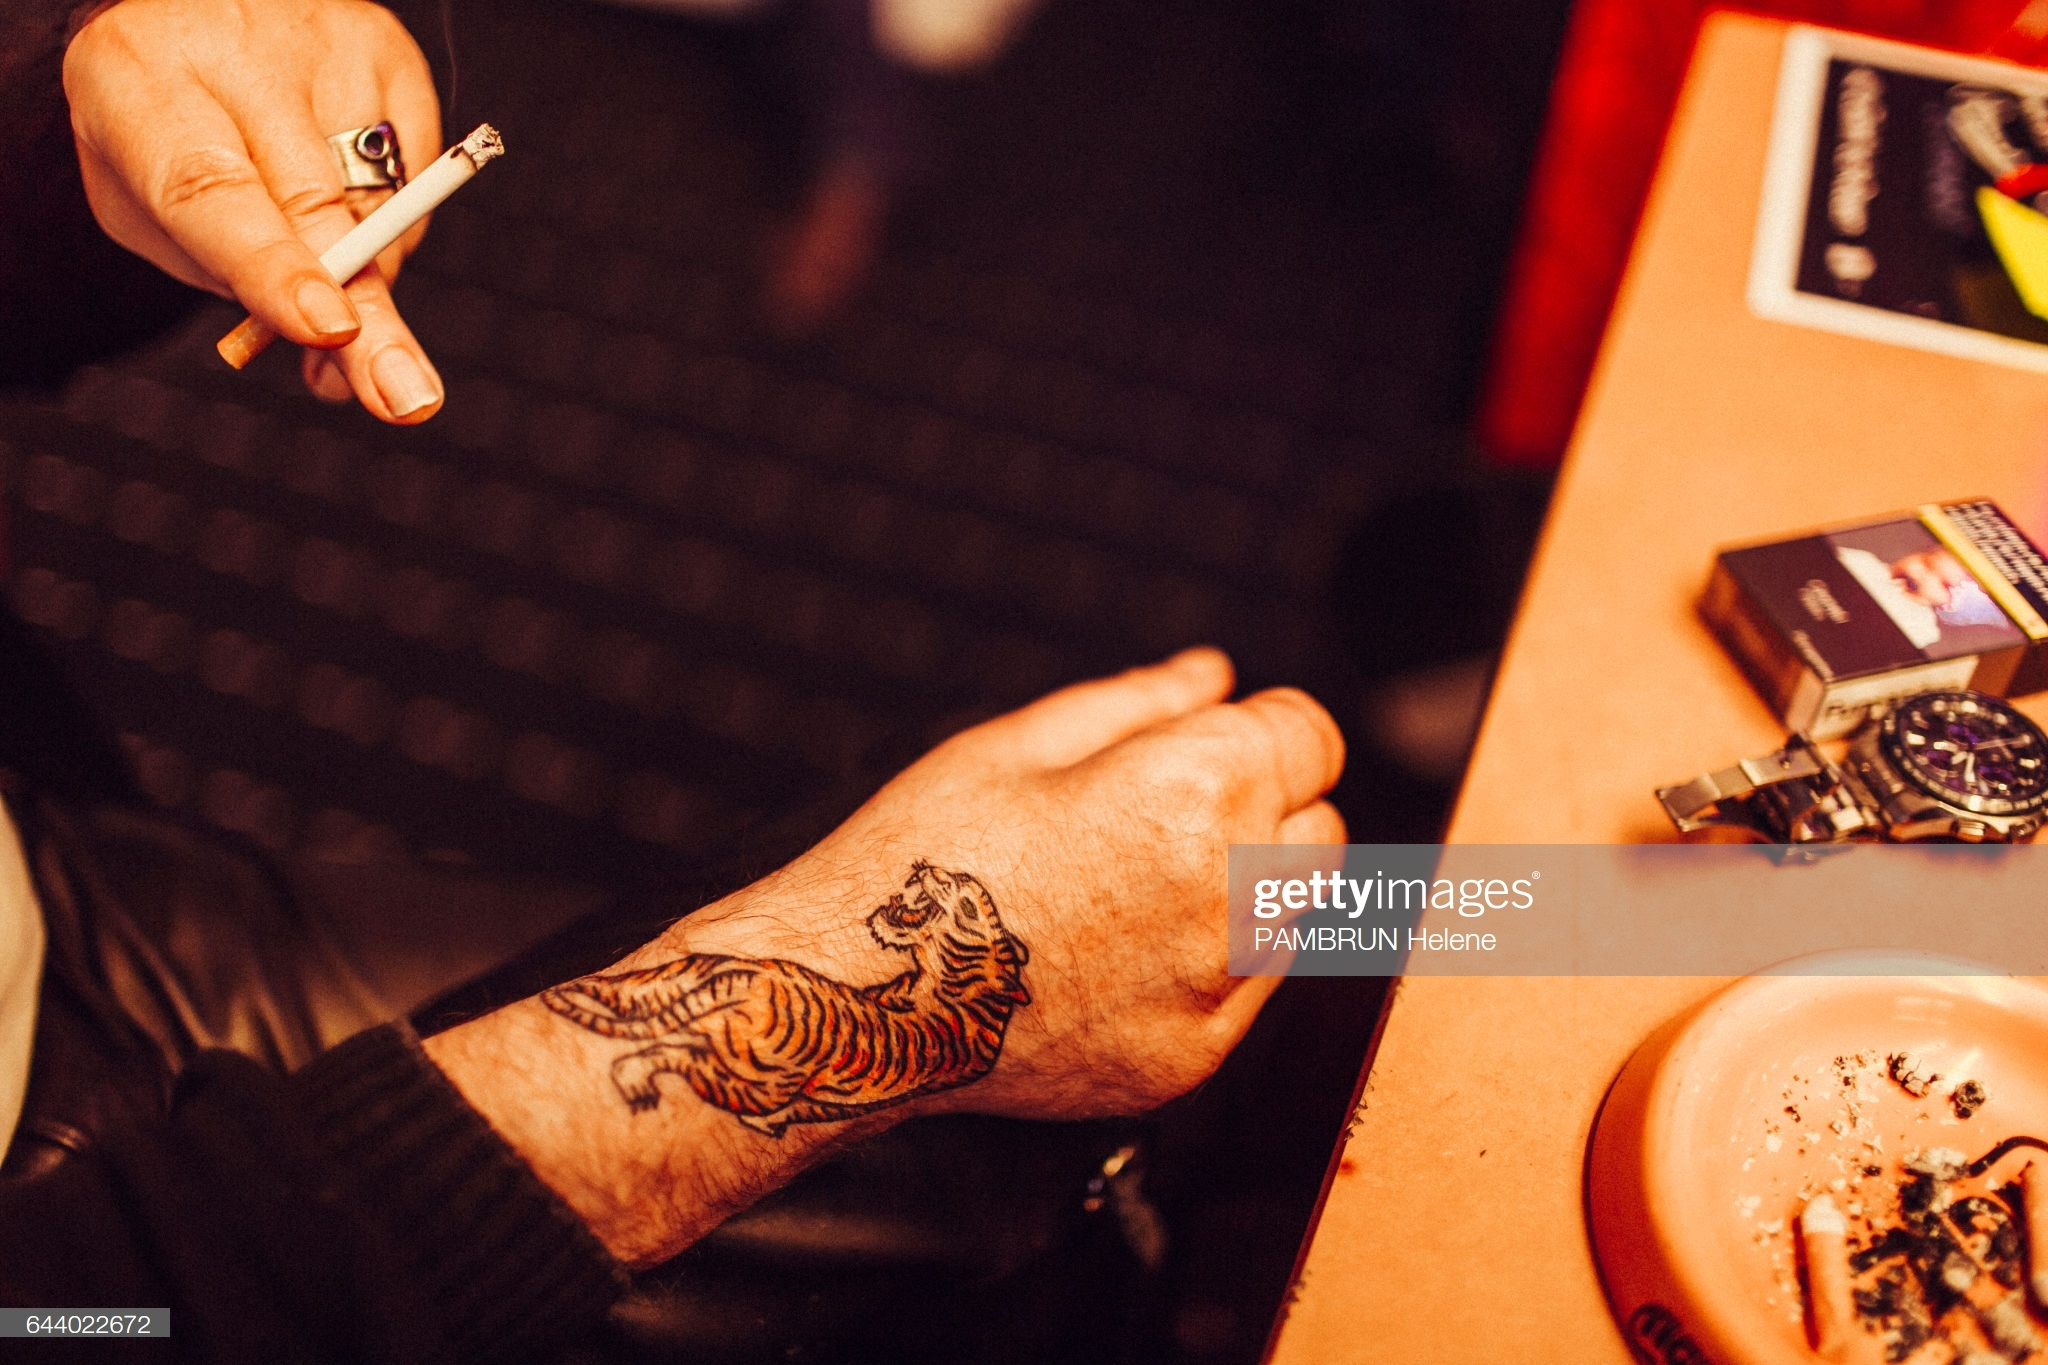sigaretta: (206, 126, 507, 384)
